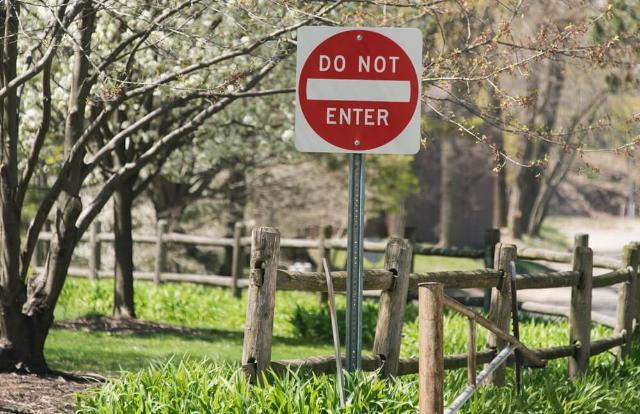B2: (294, 25, 422, 155)
